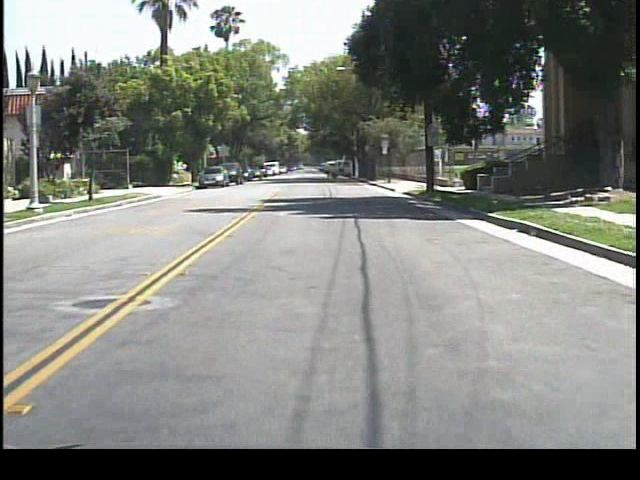person: (320, 158, 335, 184)
